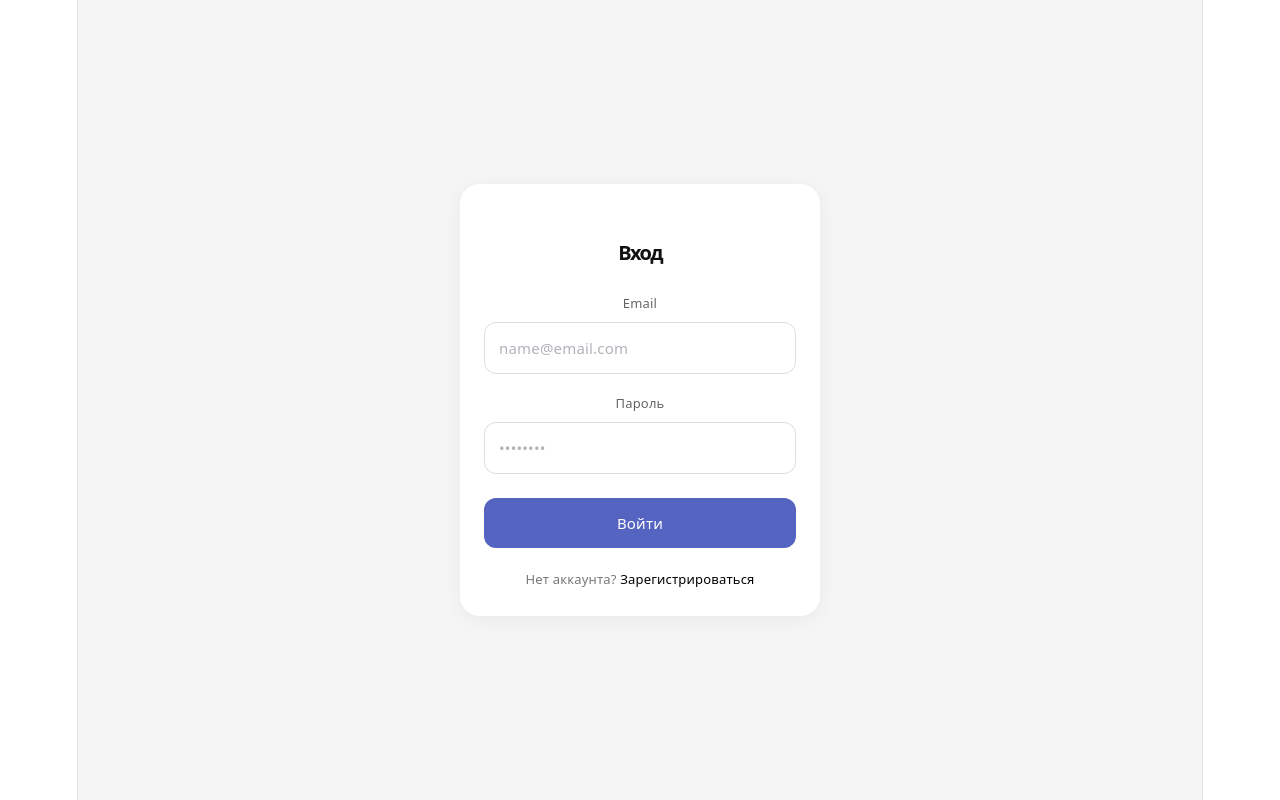
AuthForm › switches between login and register
Expected: the heading "Вход" is shown, [618, 239, 662, 266]
Click the text "Зарегистрироваться" at coordinates (686, 579), box [617, 570, 755, 588]
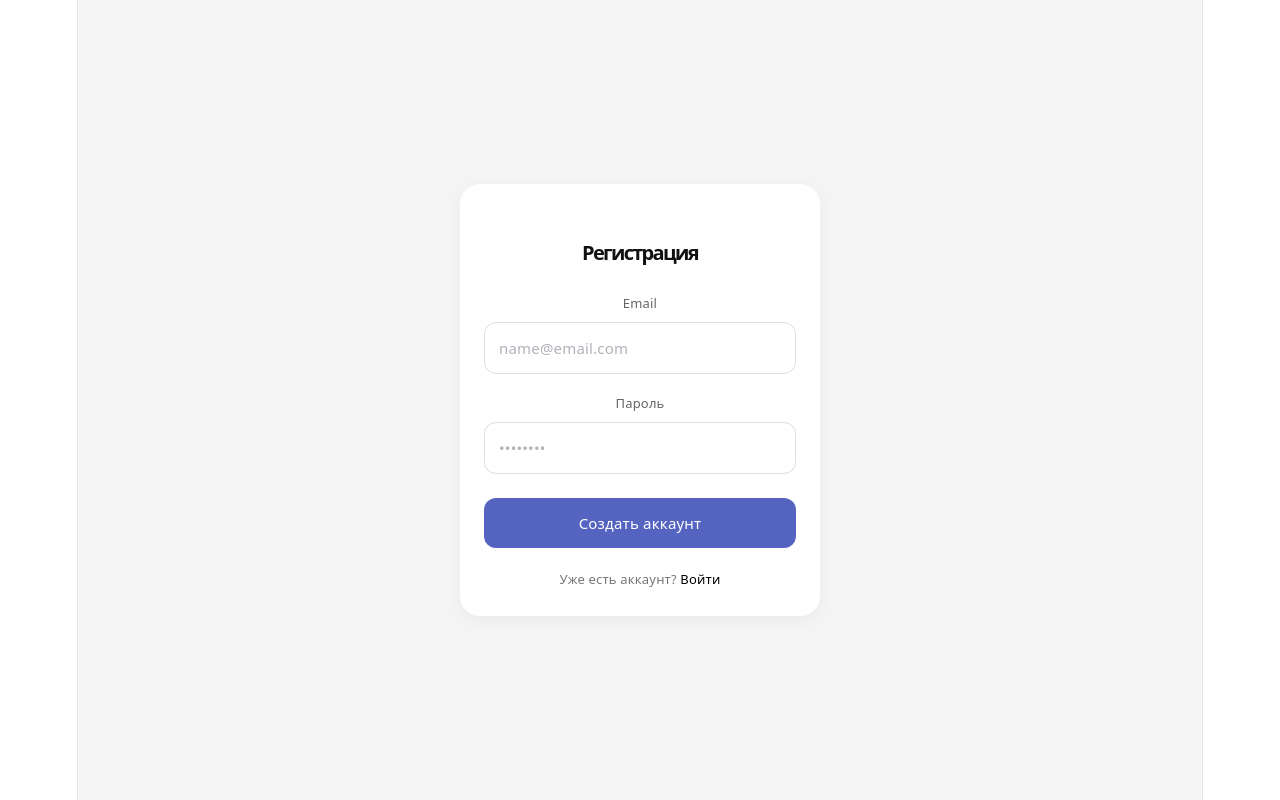
Expected: the heading "Регистрация" is shown, [582, 239, 698, 266]
